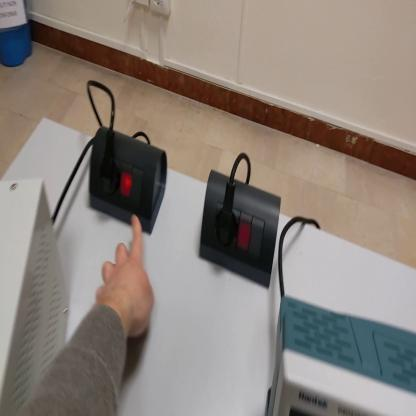hand: (95, 214, 154, 339)
oscilloscope: (266, 299, 415, 415)
power supply: (1, 181, 66, 413)
socket: (199, 169, 281, 290), (87, 129, 168, 240)
